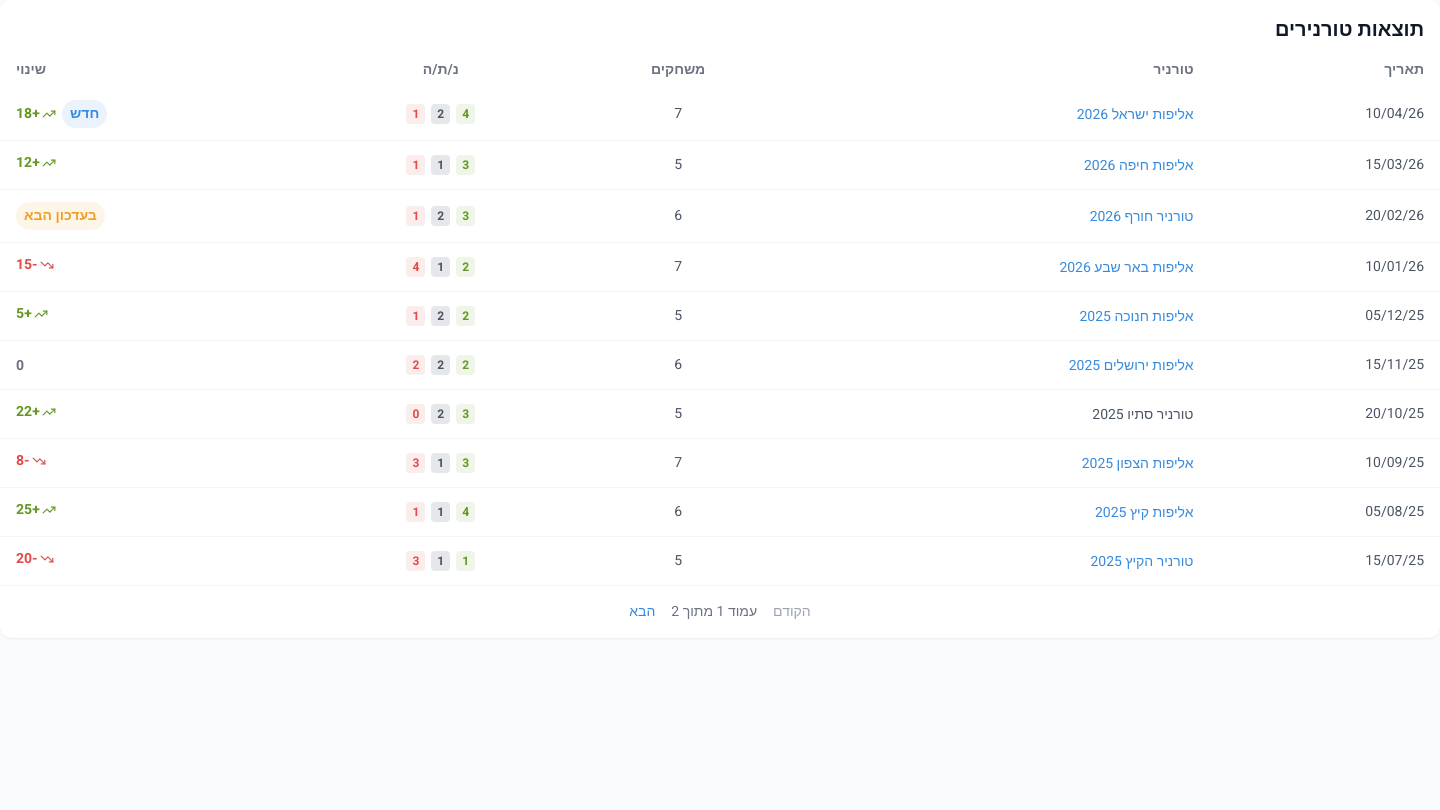
Test case: TournamentList › "הבא" button is disabled on last page
Click the button "הבא": click(642, 612) [629,602,655,622]
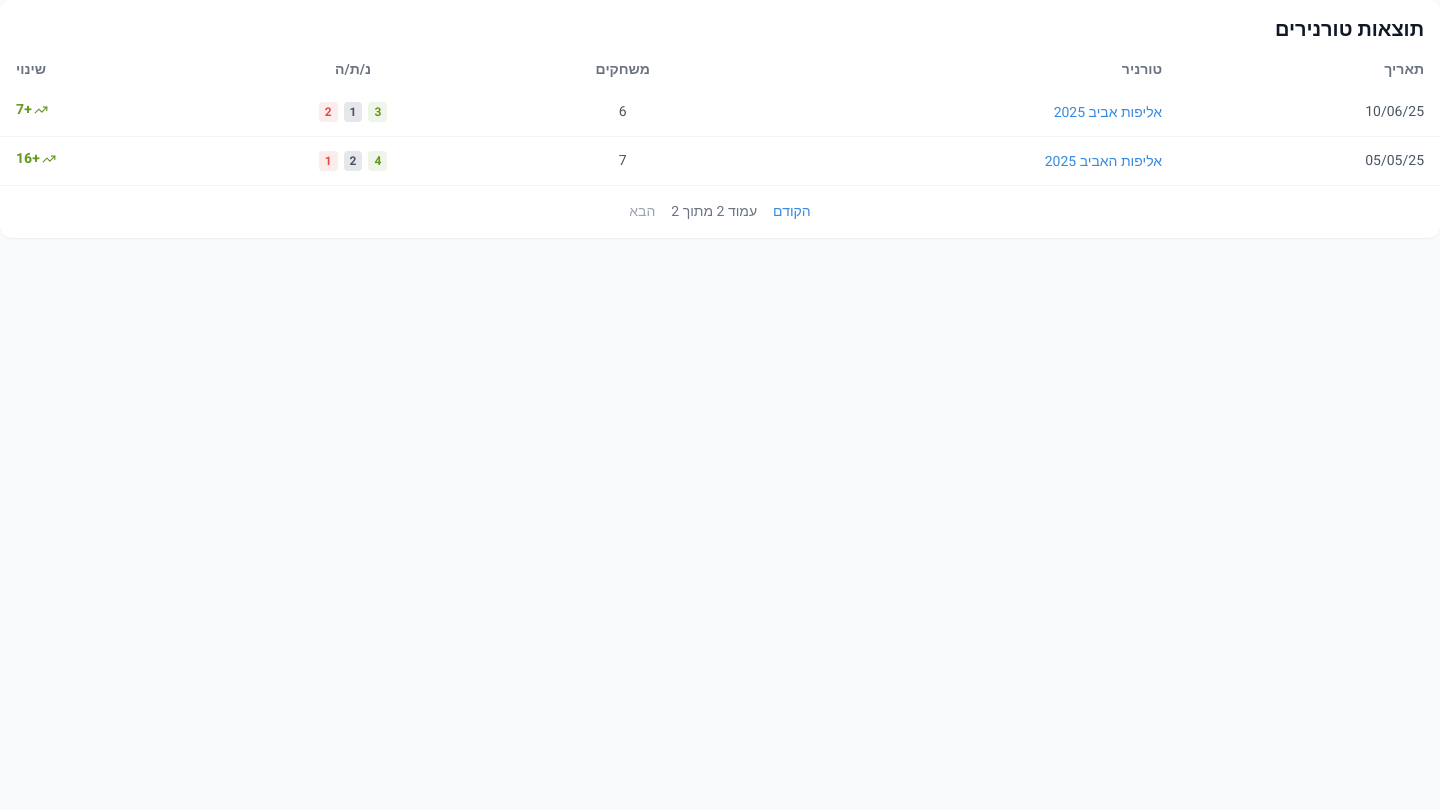
Expected: the button "הבא" is disabled, [629,202,655,222]
